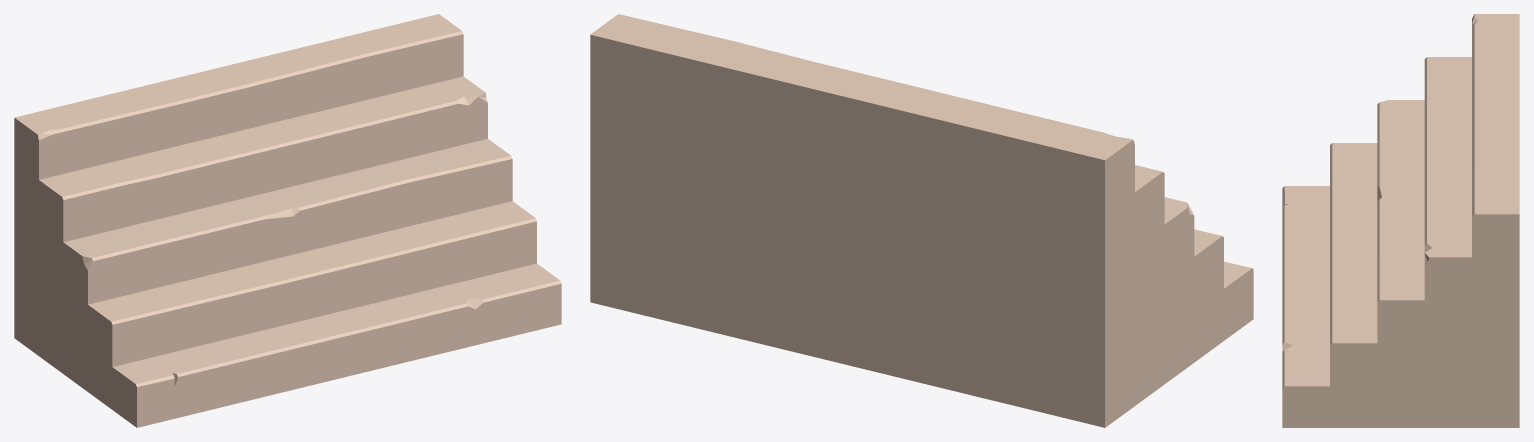
File: stair_short.fbx
3 renders of one model, left to right at view 1: azimuth 30°, elevation 25°; view 2: azimuth 150°, elevation 25°; view 3: azimuth 270°, elevation 25°, orthographic. The views are drawn at different scales.
Parts seen in each view (by area): view 1: Cube.002; view 2: Cube.002; view 3: Cube.002.
Part boxes in pixels (x1,y1,x2,y2): Cube.002: (14,14,561,427); Cube.002: (590,14,1253,427); Cube.002: (1282,14,1519,427).
Bounding box in the file's own units: 200 × 99.7 × 100.
